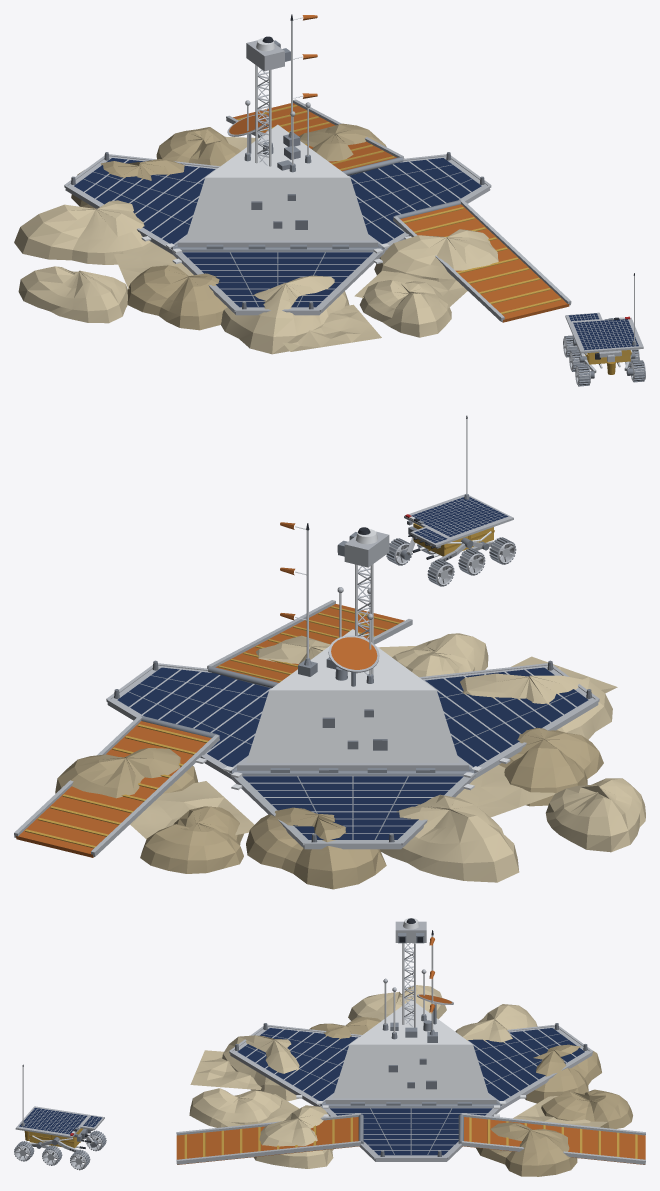
Rendered from pathfinder.glb.
3 views of the same model, one above another, from view 1: azimuth 30°, elevation 25°; view 2: azimuth 150°, elevation 25°; view 3: azimuth 270°, elevation 25° (orthographic). The views are drawn at different scales.
Visible parts, largest first — view 1: foil, body, solar-panel; view 2: foil, body, solar-panel; view 3: foil, body, solar-panel.
Boxes of the visible parts, x1,y1,x2,y2 form: foil: [14, 15, 631, 374]; body: [64, 14, 645, 386]; solar-panel: [74, 158, 638, 350]; foil: [16, 522, 645, 889]; body: [14, 415, 599, 856]; solar-panel: [117, 497, 588, 839]; foil: [24, 937, 645, 1176]; body: [14, 918, 645, 1170]; solar-panel: [19, 1028, 584, 1155].
Size of the model in its own units: 3.64 by 1.72 by 5.31.
